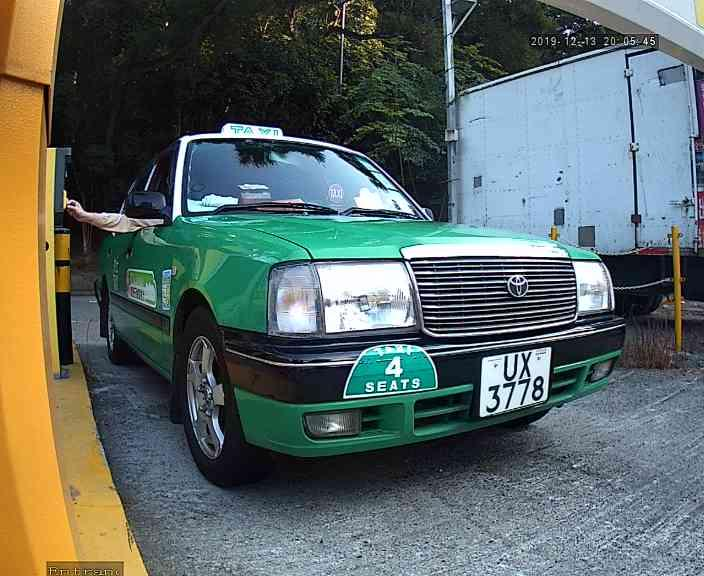Car: (92, 10, 633, 514)
License Plate: (469, 345, 563, 420)
